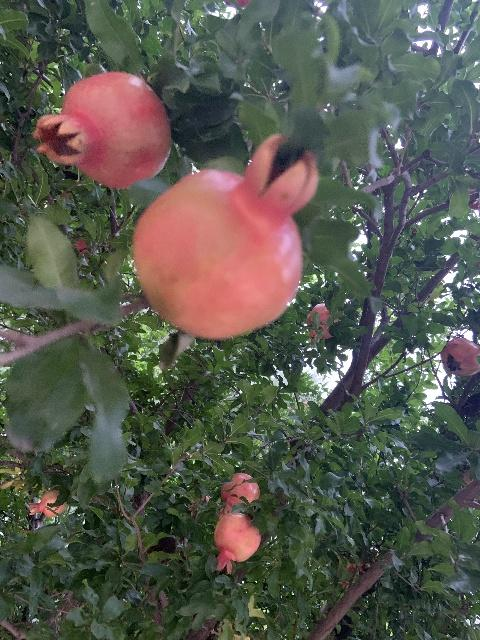ripe: (129, 132, 318, 342), (32, 71, 172, 187), (213, 512, 261, 573), (219, 473, 259, 518), (440, 337, 479, 376), (306, 303, 340, 340), (27, 489, 66, 517), (187, 494, 209, 516)
